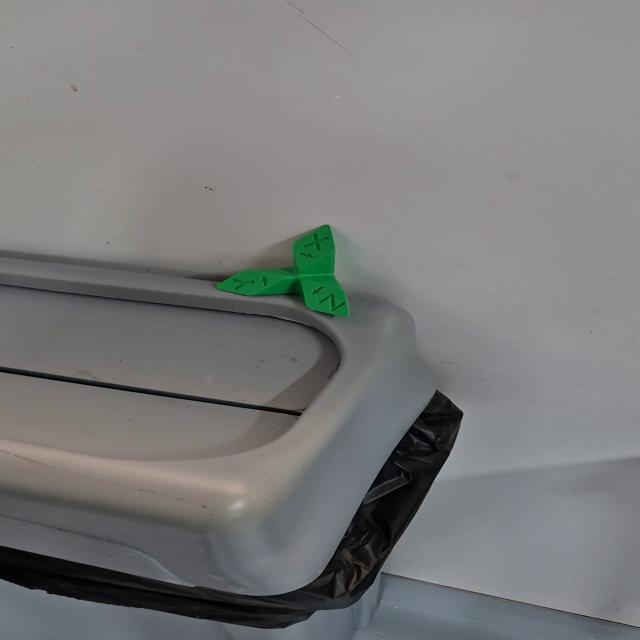objects: (212, 223, 354, 319)
